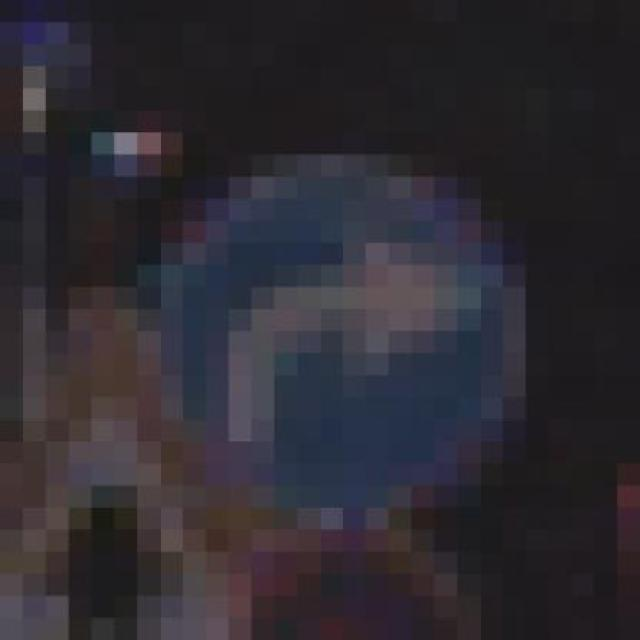Turn right ahead: (114, 110, 549, 530)
